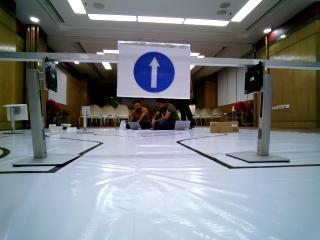straight: (117, 40, 192, 99)
